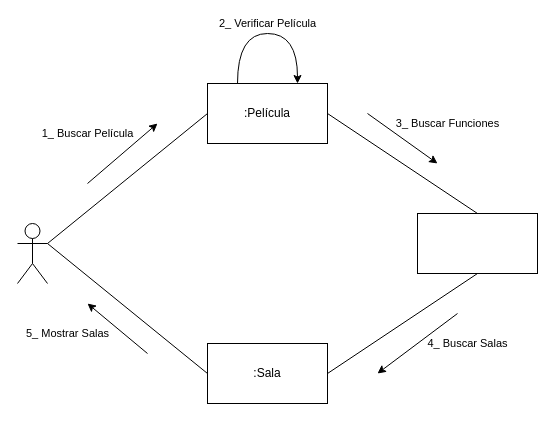
Image size: 555x421. Some labels were removed from this diagram. Here are the shapes that lost their labels. From the top down, the box of each, then its label:
(16, 222, 48, 284): Actor
(416, 212, 538, 274): :Función
